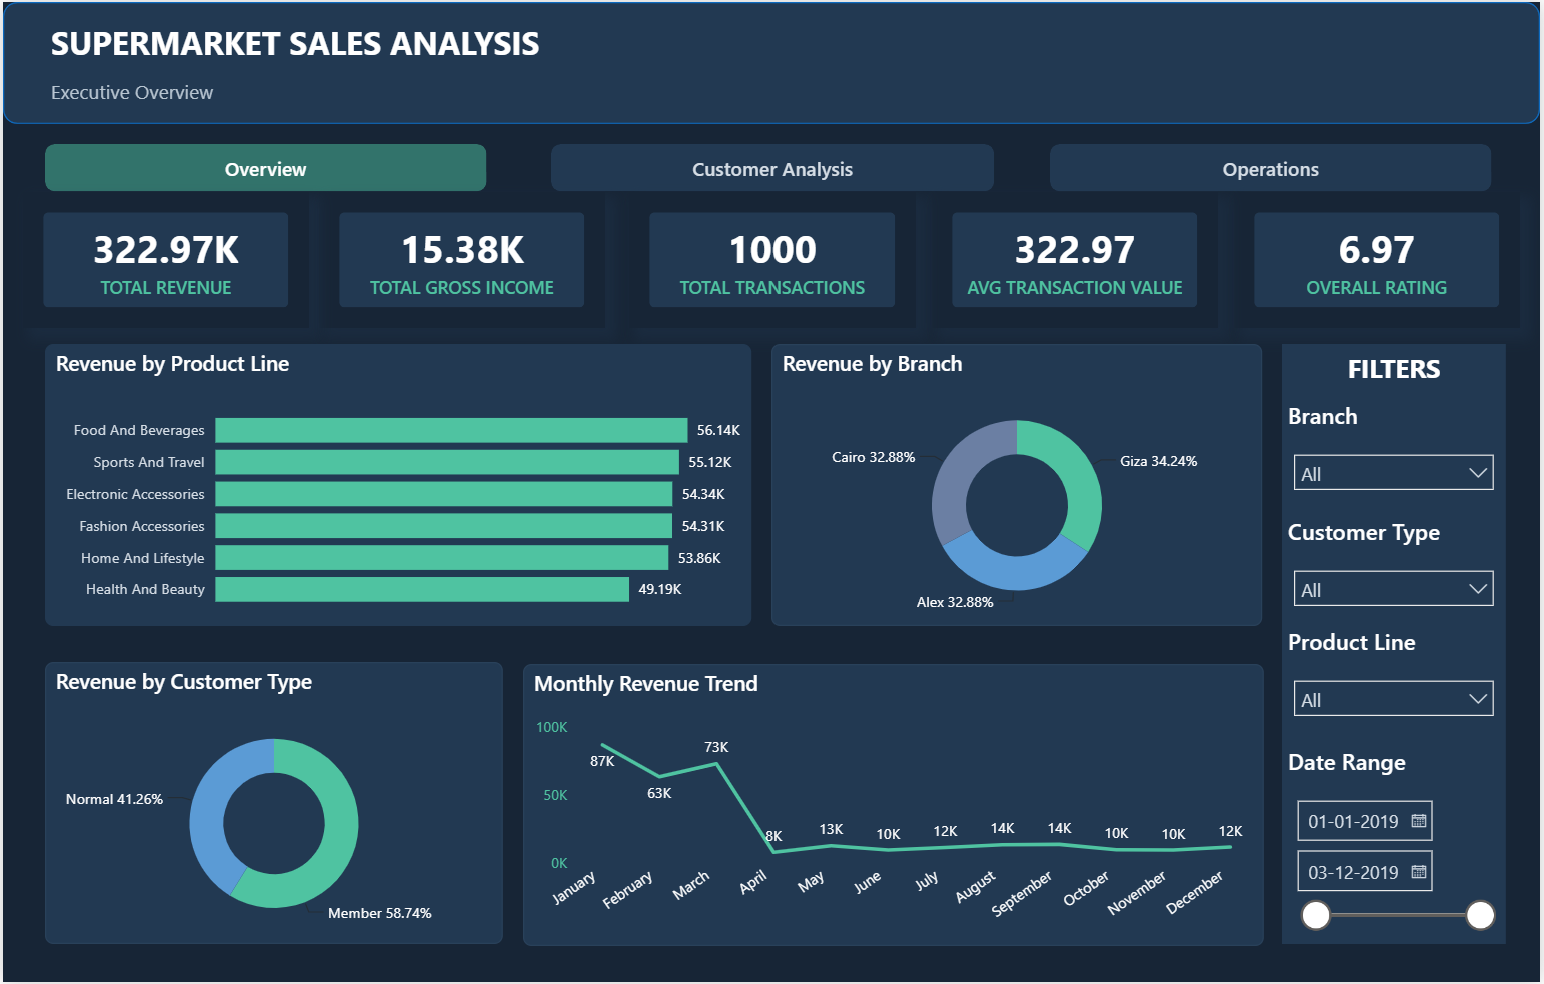

This screenshot's page, from the dashboard's own definition file:
{"tool":"powerbi","page":{"name":"Overview","canvas":[1280,817],"ordinal":0},"visuals":[{"type":"shape","box":[0,0,1280,101.6],"z":0},{"type":"textbox","box":[34.9,10.6,458,48.5],"z":1000},{"type":"textbox","box":[34.9,57.6,200.2,31.8],"z":2000},{"type":"actionButton","box":[34.9,118.3,368,39.4],"z":3000},{"type":"actionButton","box":[456.5,118.3,368.5,39.4],"z":4000},{"type":"actionButton","box":[872,118.3,368,39.4],"z":5000},{"type":"cardVisual","fields":{"Data":["supermarket_sales.Total Revenue"]},"box":[16.7,158.3,238,113.7],"z":6000},{"type":"cardVisual","fields":{"Data":["supermarket_sales.Total Gross Income"]},"box":[263.3,158.3,238,113.7],"z":7000},{"type":"cardVisual","fields":{"Data":["supermarket_sales.Total Transactions"]},"box":[521.7,158.3,238,113.7],"z":8000},{"type":"cardVisual","fields":{"Data":["supermarket_sales.Average Transaction Value"]},"box":[773.3,158.3,238,113.7],"z":9000},{"type":"cardVisual","fields":{"Data":["supermarket_sales.Overall Rating"]},"box":[1025,158.3,238,113.7],"z":10000},{"type":"clusteredBarChart","title":"Revenue by Product Line","fields":{"Y":["supermarket_sales.Total Revenue"],"Category":["supermarket_sales.product_line"]},"box":[35,285,588.3,235],"z":11000},{"type":"donutChart","title":"Revenue by Branch","fields":{"Category":["supermarket_sales.branch"],"Y":["supermarket_sales.Total Revenue"]},"box":[640,285,408.3,235],"z":12000},{"type":"lineChart","title":"Monthly Revenue Trend","fields":{"Category":["supermarket_sales.date.Variation.Date Hierarchy.Month"],"Y":["supermarket_sales.Total Revenue"]},"box":[433.3,551.7,616.7,235],"z":13000},{"type":"shape","box":[1065,285,186.7,500],"z":14000},{"type":"donutChart","title":"Revenue by Customer Type","fields":{"Y":["supermarket_sales.Total Revenue"],"Category":["supermarket_sales.customer_type"]},"box":[35,550,381.7,235],"z":15000},{"type":"textbox","box":[1065,285,186.7,46.7],"z":16000},{"type":"slicer","title":"Customer Type","fields":{"Values":["supermarket_sales.customer_type"]},"box":[1065,428.3,186.7,83.3],"z":17000},{"type":"slicer","title":"Branch","fields":{"Values":["supermarket_sales.branch"]},"box":[1065,331.7,186.7,83.3],"z":18000},{"type":"slicer","title":"Product Line","fields":{"Values":["supermarket_sales.product_line"]},"box":[1065,520,186.7,85],"z":19000},{"type":"slicer","title":"Date Range","fields":{"Values":["supermarket_sales.date"]},"box":[1065,620,186.7,165],"z":20000}]}

Visuals, with their boxes in screenshot pixels (x1, y1, x2, y2), scaled from the page's 1280x817 canvas onto the 1544x984 screenshot:
shape: <region>0, 0, 1543, 122</region>
textbox: <region>42, 13, 595, 71</region>
textbox: <region>42, 69, 284, 108</region>
actionButton: <region>42, 142, 486, 190</region>
actionButton: <region>551, 142, 995, 190</region>
actionButton: <region>1052, 142, 1496, 190</region>
cardVisual - supermarket_sales.Total Revenue: <region>20, 191, 307, 328</region>
cardVisual - supermarket_sales.Total Gross Income: <region>318, 191, 605, 328</region>
cardVisual - supermarket_sales.Total Transactions: <region>629, 191, 916, 328</region>
cardVisual - supermarket_sales.Average Transaction Value: <region>933, 191, 1220, 328</region>
cardVisual - supermarket_sales.Overall Rating: <region>1236, 191, 1523, 328</region>
"Revenue by Product Line" clusteredBarChart: <region>42, 343, 752, 626</region>
"Revenue by Branch" donutChart: <region>772, 343, 1265, 626</region>
"Monthly Revenue Trend" lineChart: <region>523, 664, 1267, 948</region>
shape: <region>1285, 343, 1510, 945</region>
"Revenue by Customer Type" donutChart: <region>42, 662, 503, 945</region>
textbox: <region>1285, 343, 1510, 400</region>
"Customer Type" slicer: <region>1285, 516, 1510, 616</region>
"Branch" slicer: <region>1285, 400, 1510, 500</region>
"Product Line" slicer: <region>1285, 626, 1510, 729</region>
"Date Range" slicer: <region>1285, 747, 1510, 945</region>
